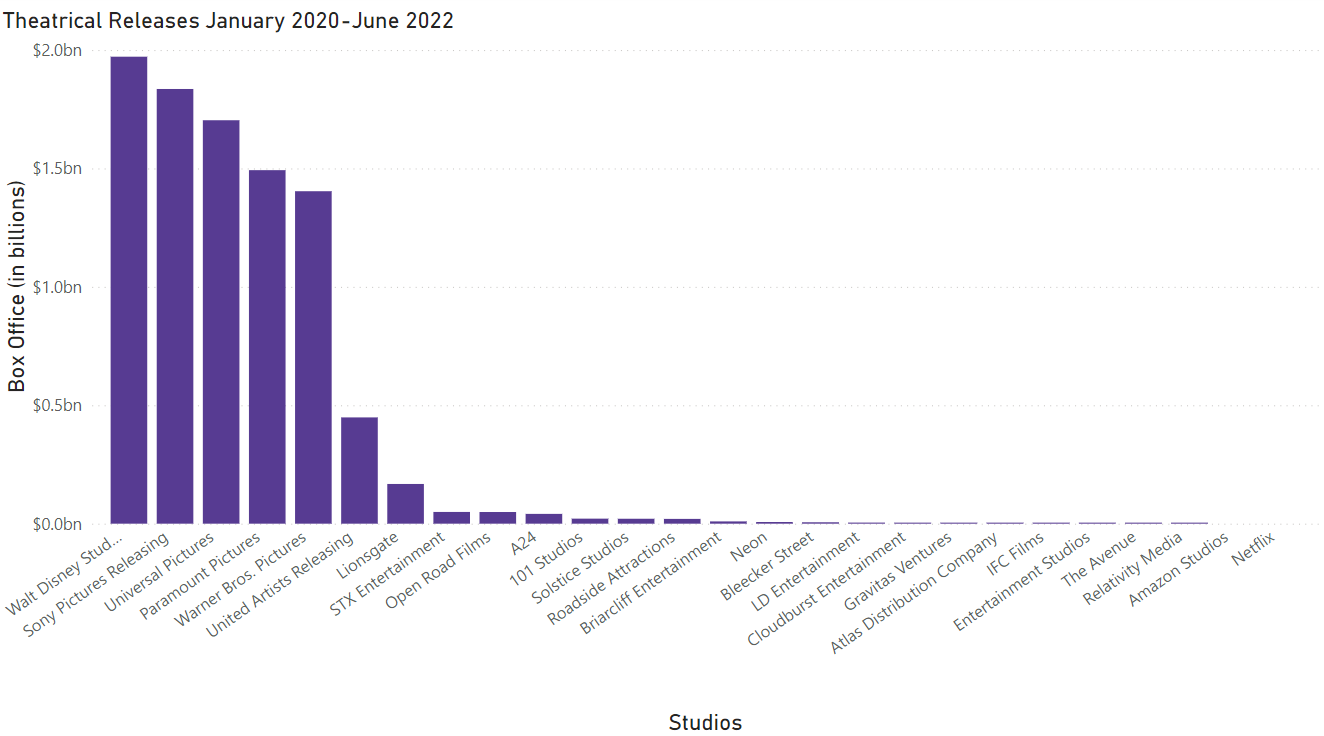

The dashboard page shown, as its layout file describes it:
{"tool":"powerbi","page":{"name":"Wide","canvas":[1280,720],"ordinal":9},"visuals":[{"type":"clusteredColumnChart","fields":{"Y":["Sum(Wide.Box_office_domestic)"],"Category":["Wide.Studio"]},"box":[0,13.7,1085,631.8],"z":0}]}

Visuals, with their boxes in screenshot pixels (x1, y1, x2, y2), scaled from the page's 1280x720 canvas onto the 1324x736 screenshot:
clusteredColumnChart - Sum(Wide.Box_office_domestic) x Wide.Studio: 0:14:1122:660
